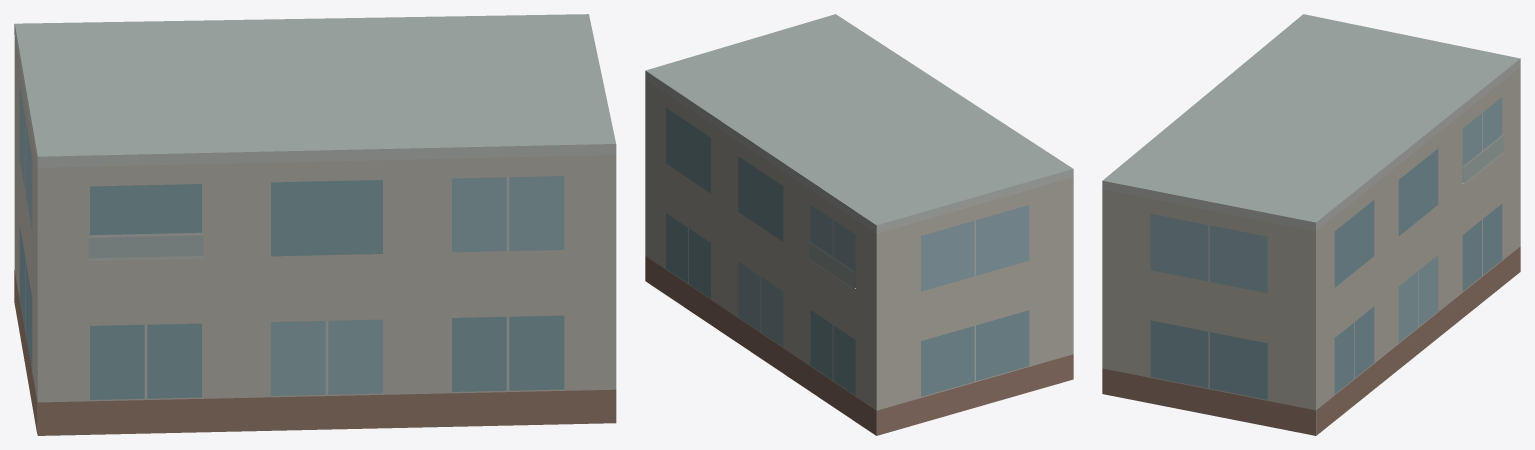
File: survey-upis-32999942.glb
3 renders of one model, left to right at view 1: azimuth 30°, elevation 25°; view 2: azimuth 150°, elevation 25°; view 3: azimuth 270°, elevation 25°, orthographic. The views are drawn at different scales.
Parts seen in each view (by area): view 1: survey-upis-32999942.tmp; view 2: survey-upis-32999942.tmp; view 3: survey-upis-32999942.tmp.
Part boxes in pixels (bbox=[...]): survey-upis-32999942.tmp: bbox=[14, 14, 616, 435]; survey-upis-32999942.tmp: bbox=[645, 14, 1073, 435]; survey-upis-32999942.tmp: bbox=[1102, 14, 1520, 435].
Size of the model in its own units: 12.8 by 6.1 by 10.85.
